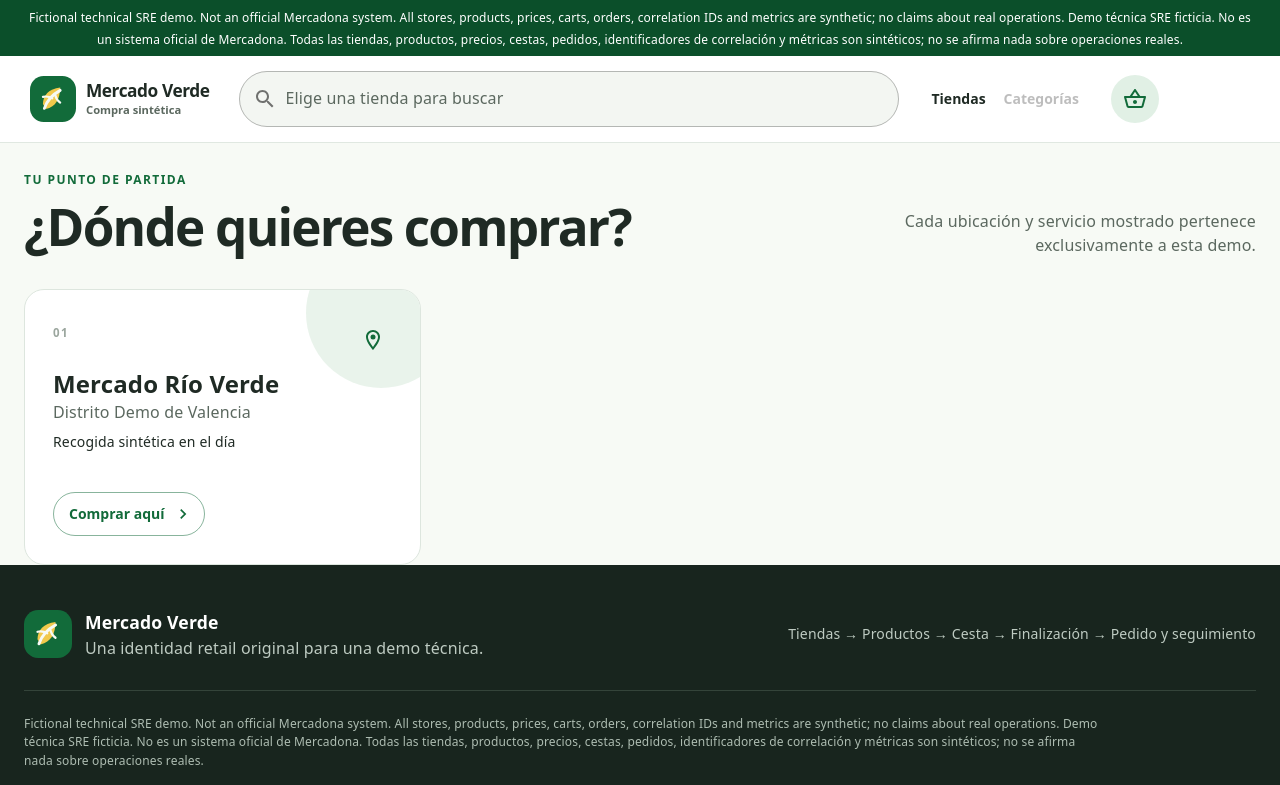
adds through the cart API and completes checkout with tracking
The width and height of the screenshot is (1280, 785).
(page scrolled)
Click the button "Comprar aquí" at point(129, 514), box [53,492,204,536]
(page scrolled)
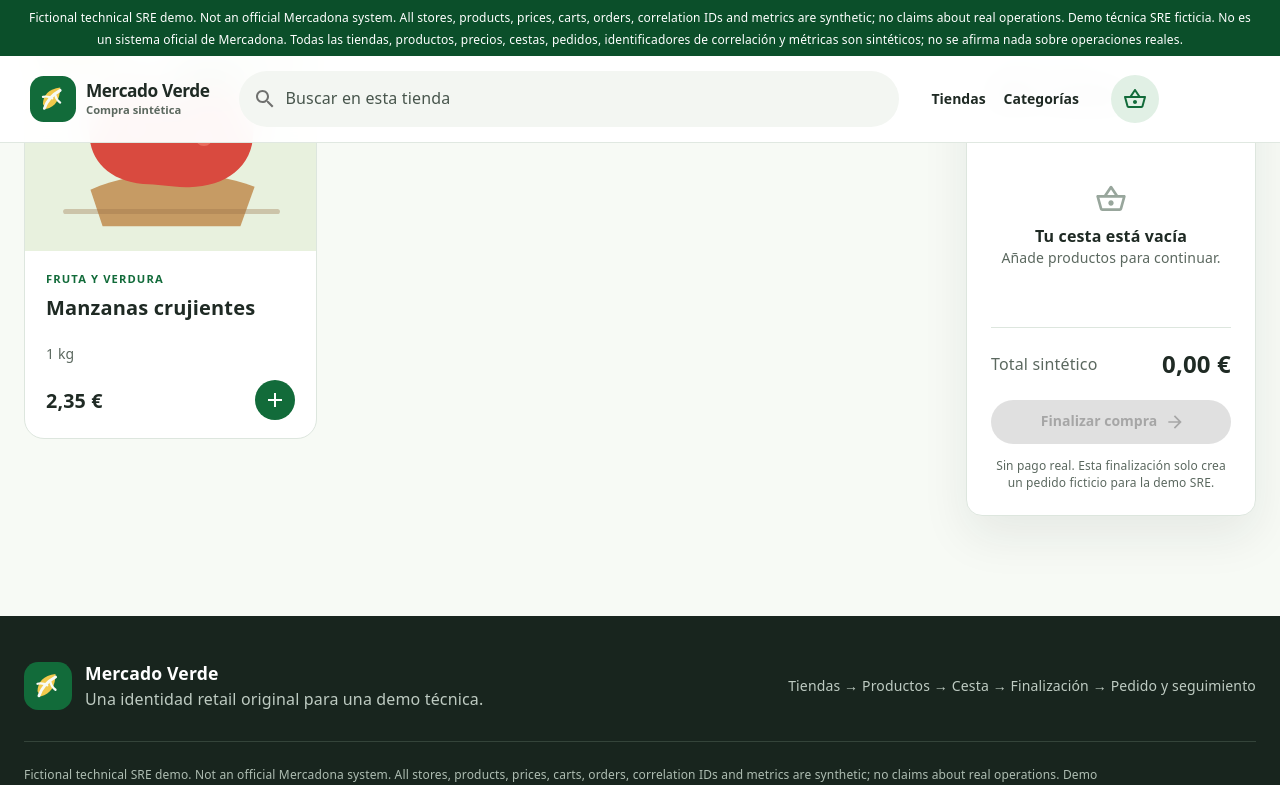
Click the button named "Añadir Manzanas crujientes al carrito" at point(275, 400), box [255,380,295,420]
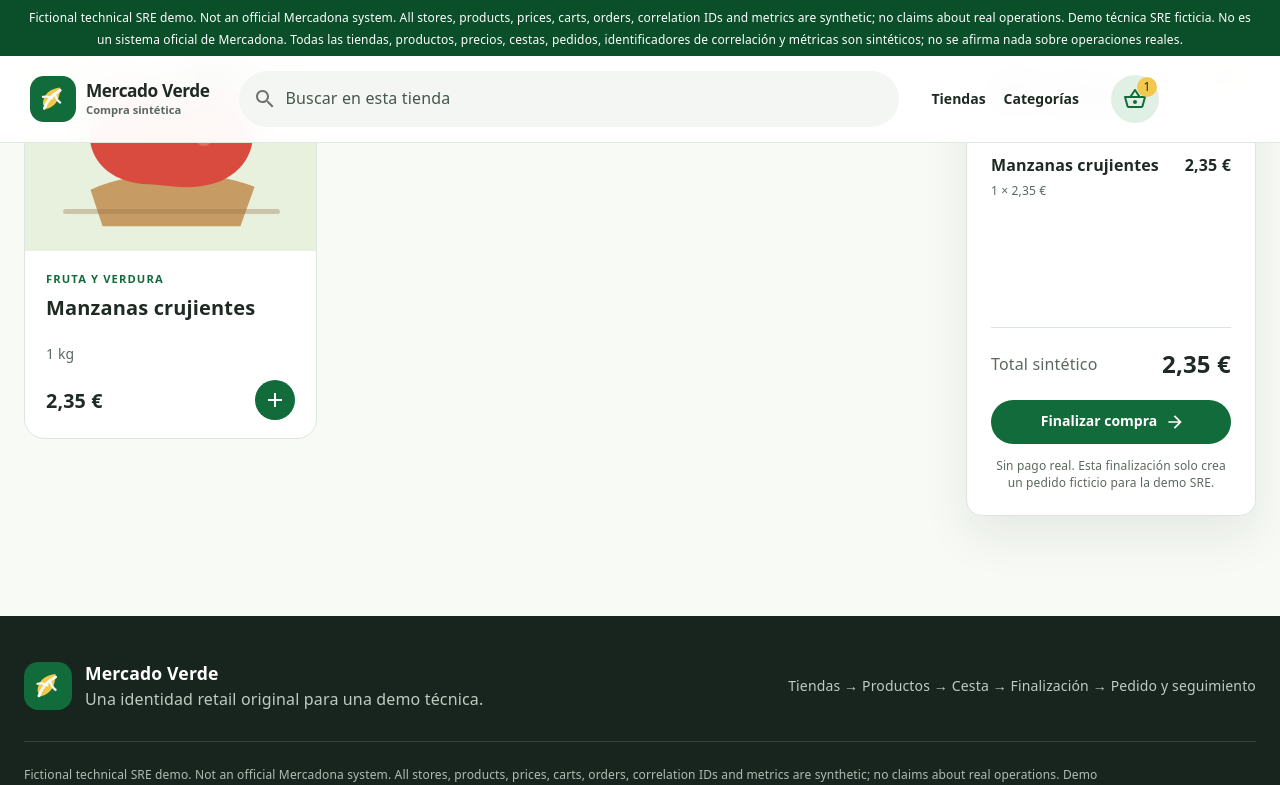
Expected: the text "1 × 2,35 €" is shown, [991,182,1046,198]
Click the button "Finalizar compra" at point(1111, 422), box [991,400,1231,444]
(page scrolled)
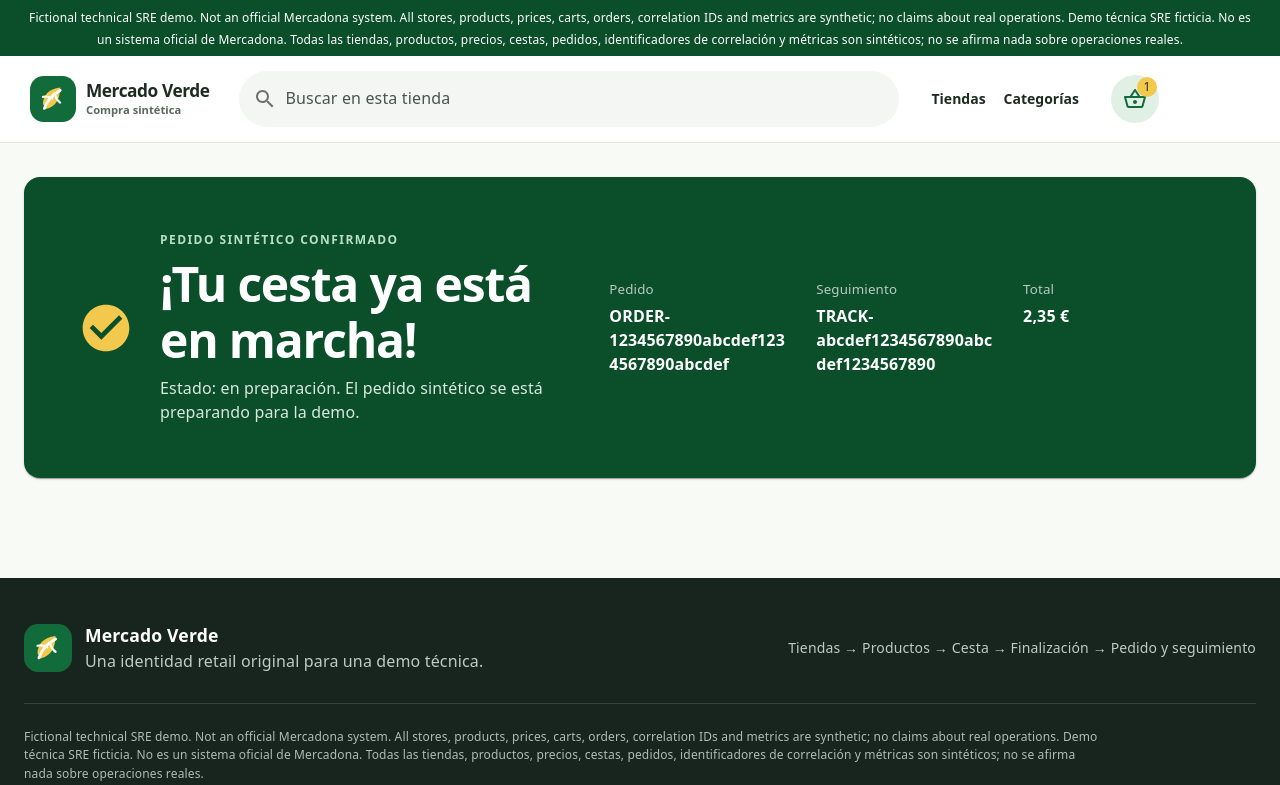
Expected: the heading "¡Tu cesta ya está en marcha!" is shown, [160,256,583,368]
Expected: the text "ORDER-1234567890abcdef1234567890abcdef" is shown, [609,304,788,376]
Expected: the text "TRACK-abcdef1234567890abcdef1234567890" is shown, [816,304,995,376]
